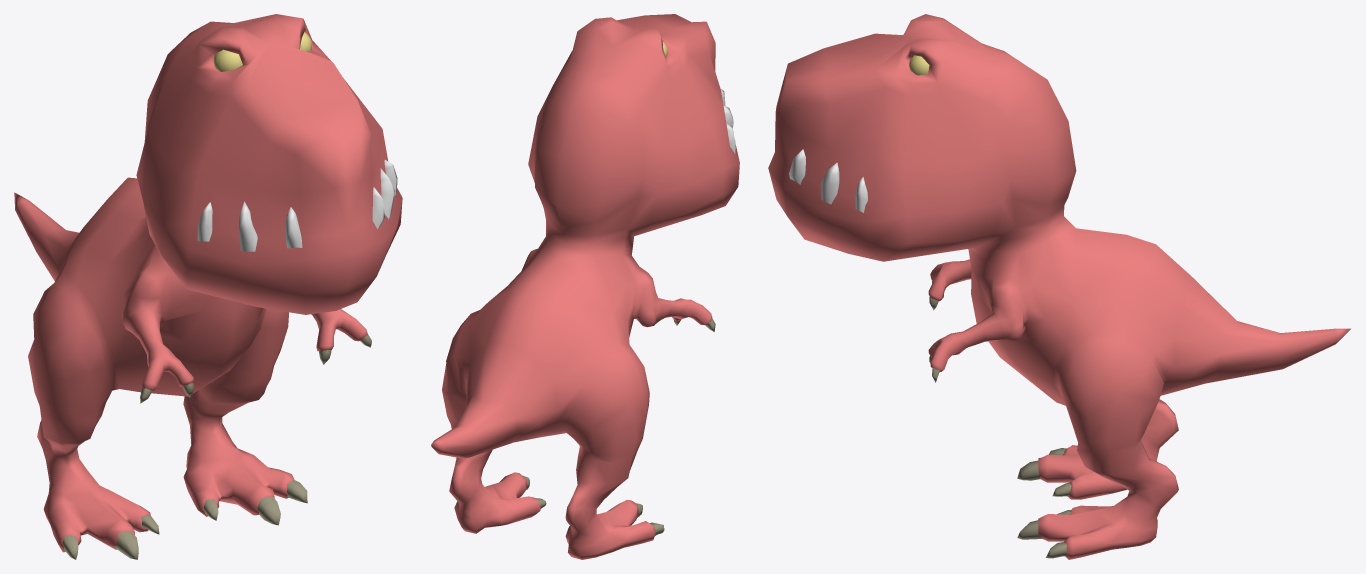
The model's file is T_Rex.fbx.
3 views of the same model, side by side, from view 1: azimuth 30°, elevation 25°; view 2: azimuth 150°, elevation 25°; view 3: azimuth 270°, elevation 25° (orthographic). The views are drawn at different scales.
Visible parts, largest first — view 1: T_Rex_Shape, T_Rex_Tooth_Shape, T_Rex_Claw_Shape, T_Rex_Eye_Shape; view 2: T_Rex_Shape, T_Rex_Claw_Shape; view 3: T_Rex_Shape, T_Rex_Claw_Shape, T_Rex_Tooth_Shape.
Part boxes in pixels (x1,y1,x2,y2): T_Rex_Shape: [14, 14, 402, 552]; T_Rex_Tooth_Shape: [197, 159, 397, 251]; T_Rex_Claw_Shape: [62, 334, 371, 559]; T_Rex_Eye_Shape: [213, 32, 311, 71]; T_Rex_Shape: [431, 14, 739, 559]; T_Rex_Claw_Shape: [523, 318, 715, 535]; T_Rex_Shape: [768, 14, 1350, 559]; T_Rex_Claw_Shape: [929, 281, 1071, 558]; T_Rex_Tooth_Shape: [789, 149, 867, 212].
Bounding box in the file's own units: 2.23 × 5 × 5.49.
